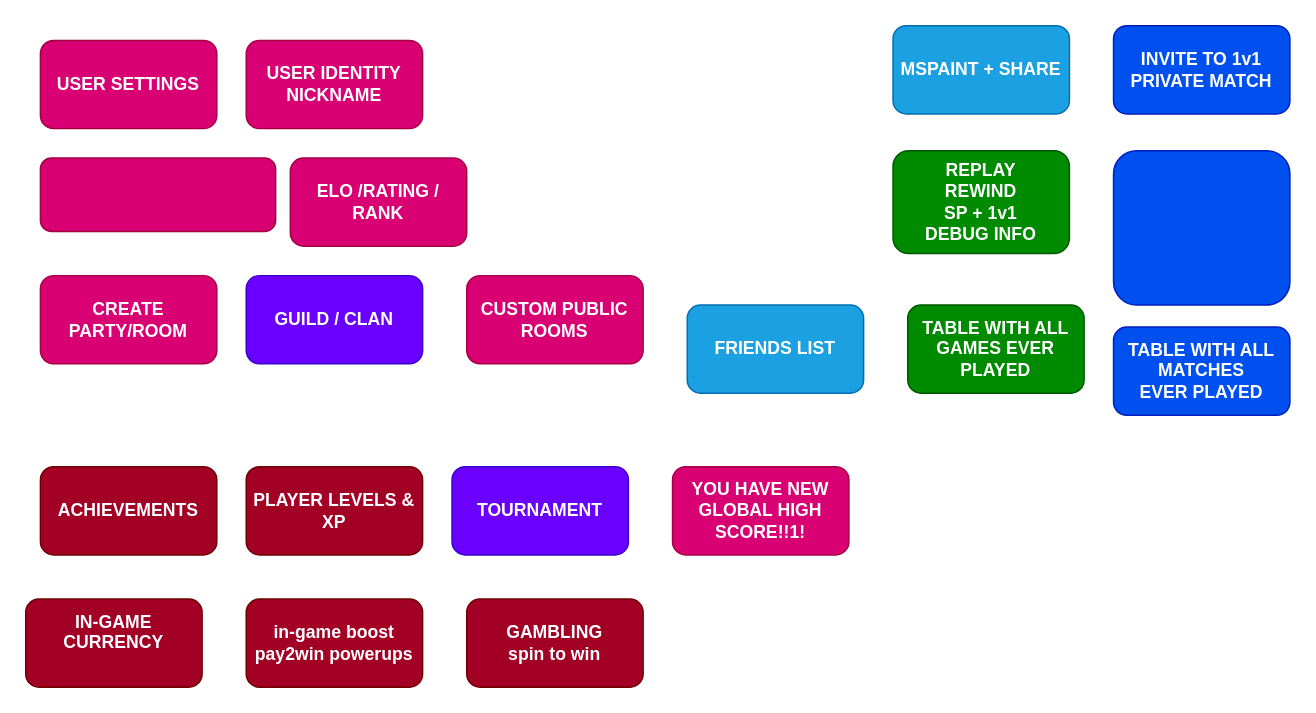
Image size: 1316x713. Some labels were removed from this diagram. The shapes that lost their labels are listed below. From the top down, each one's centre as x and y in pixels, then its label:
the point at 157,194: WIN/LOSS RATIO TOTAL GAMES PLAYED STATS
the point at 1201,227: GLOBAL LEADERBOARD PER GAME TYPE (like pinball arcade machine)
